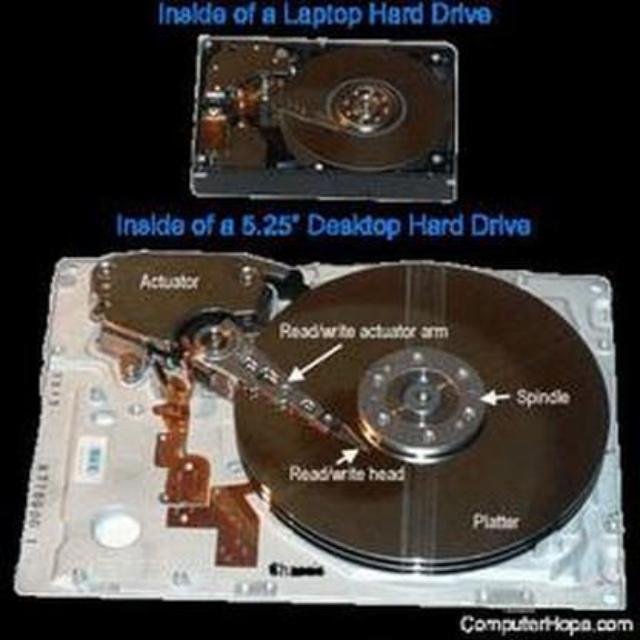DISK: (0, 259, 640, 613)
